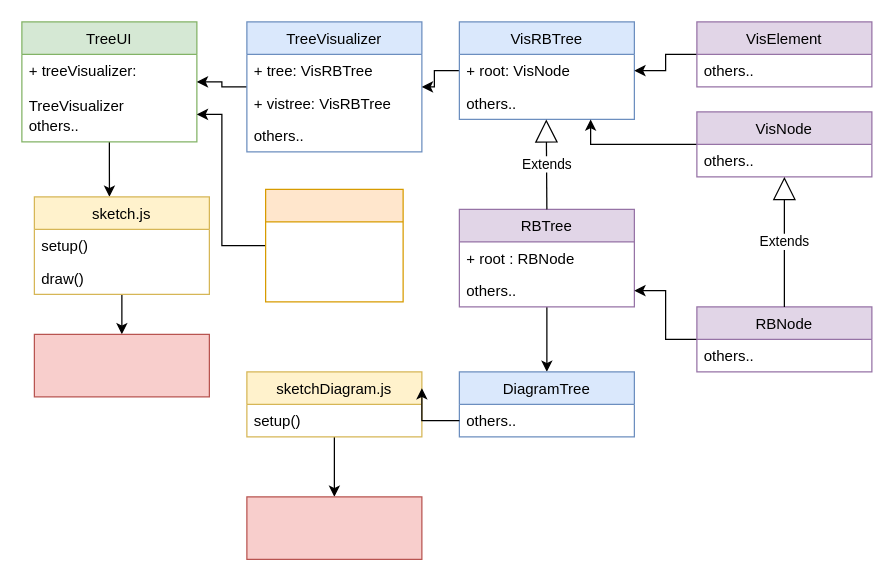
The diagram is 894 pixels wide and 581 high, and some of its shapes have lost their labels. The shapes that lost their labels are listed below. From the top down, each one's centre as x and y in pixels, then its label:
At [333,245]: "Tester".
At [121,365]: "index.html".
At [334,527]: "diagram.html".
